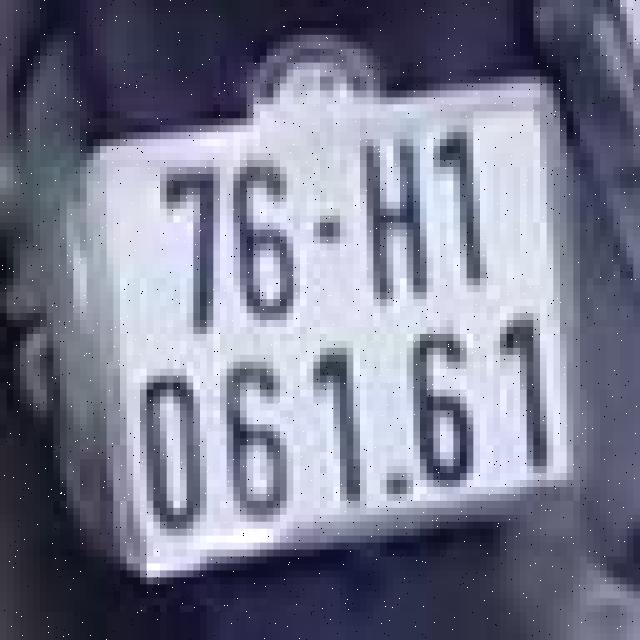0: (133, 358, 220, 539)
1: (300, 341, 380, 515), (430, 111, 497, 306), (490, 309, 557, 476)
6: (223, 352, 297, 526), (410, 327, 490, 487), (230, 156, 303, 324)
7: (146, 167, 226, 341)
H: (353, 125, 440, 320)
